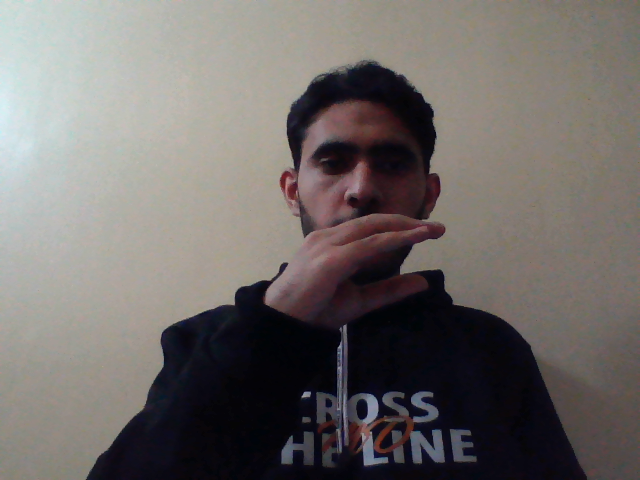C: (261, 207, 437, 336)
